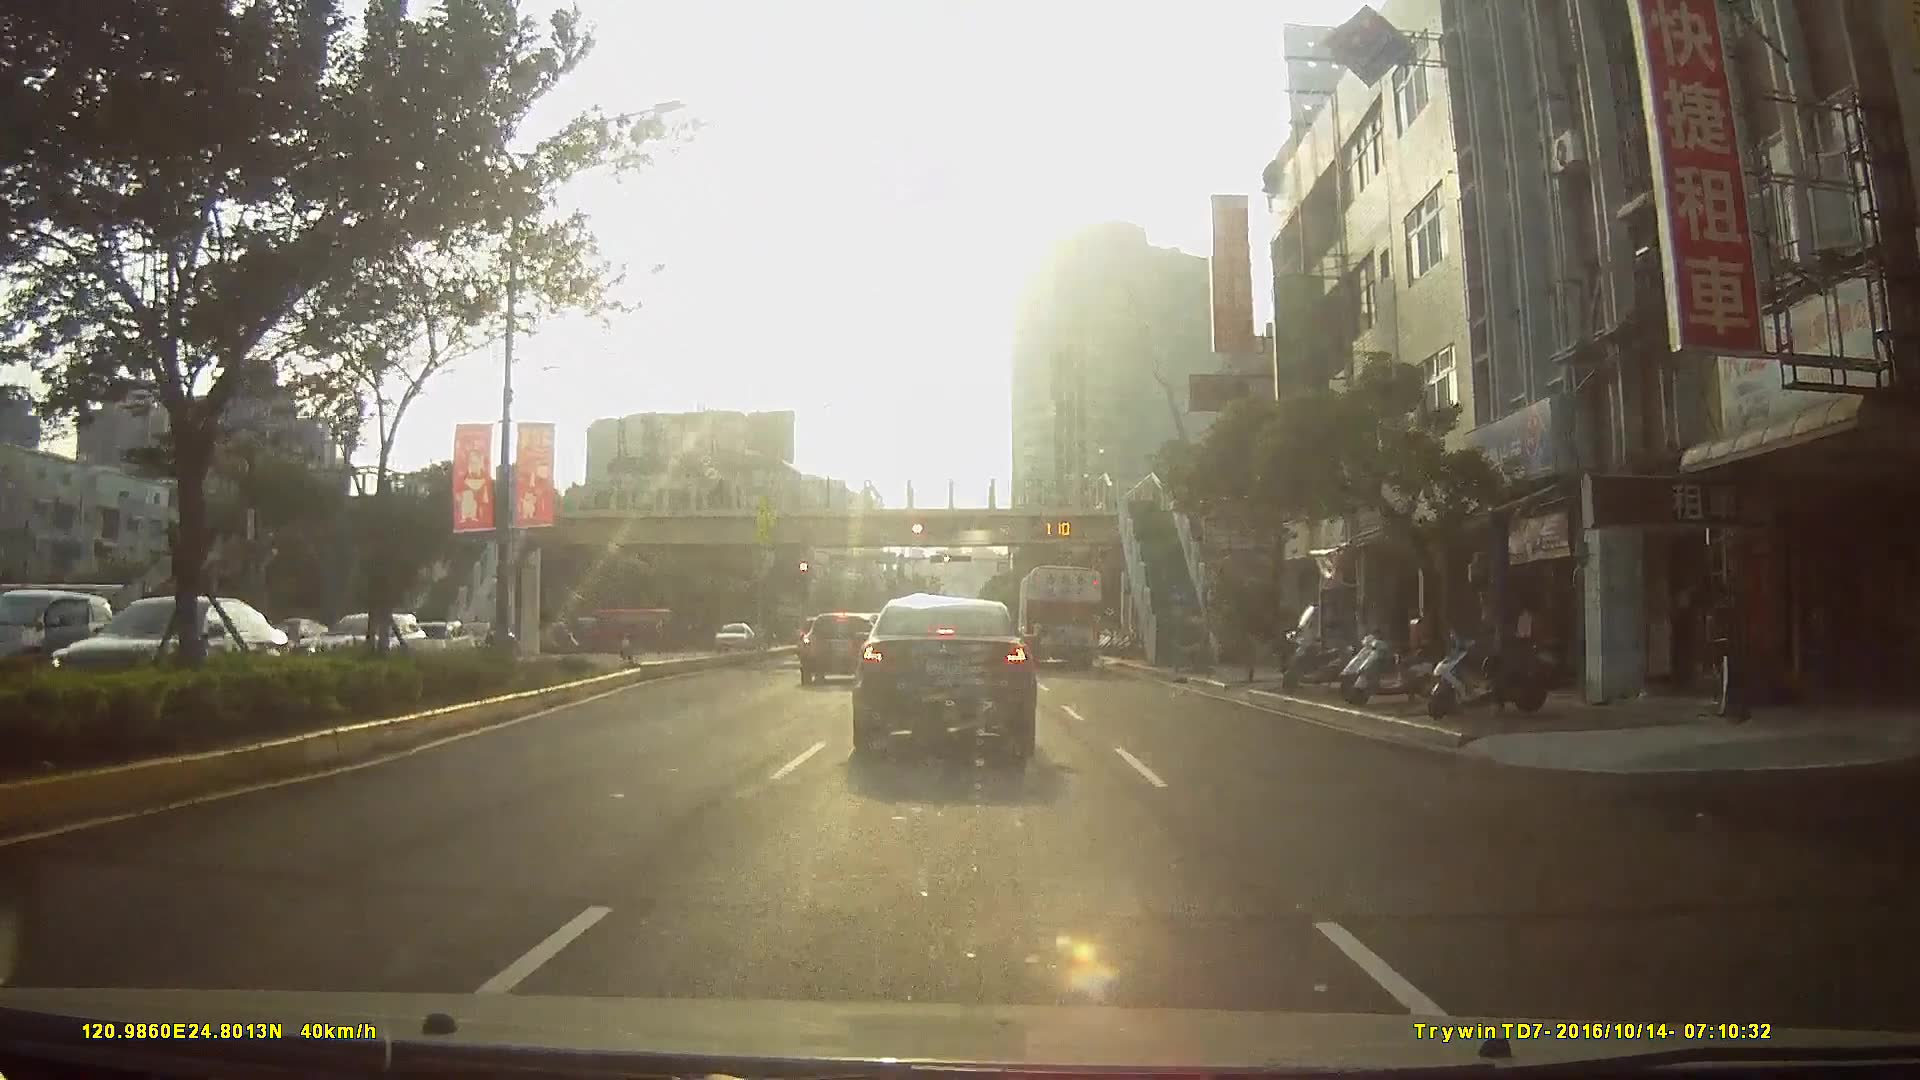vehicle: (848, 593, 1036, 754), (1014, 560, 1106, 670), (0, 585, 107, 679), (796, 611, 880, 688), (709, 618, 754, 651)
